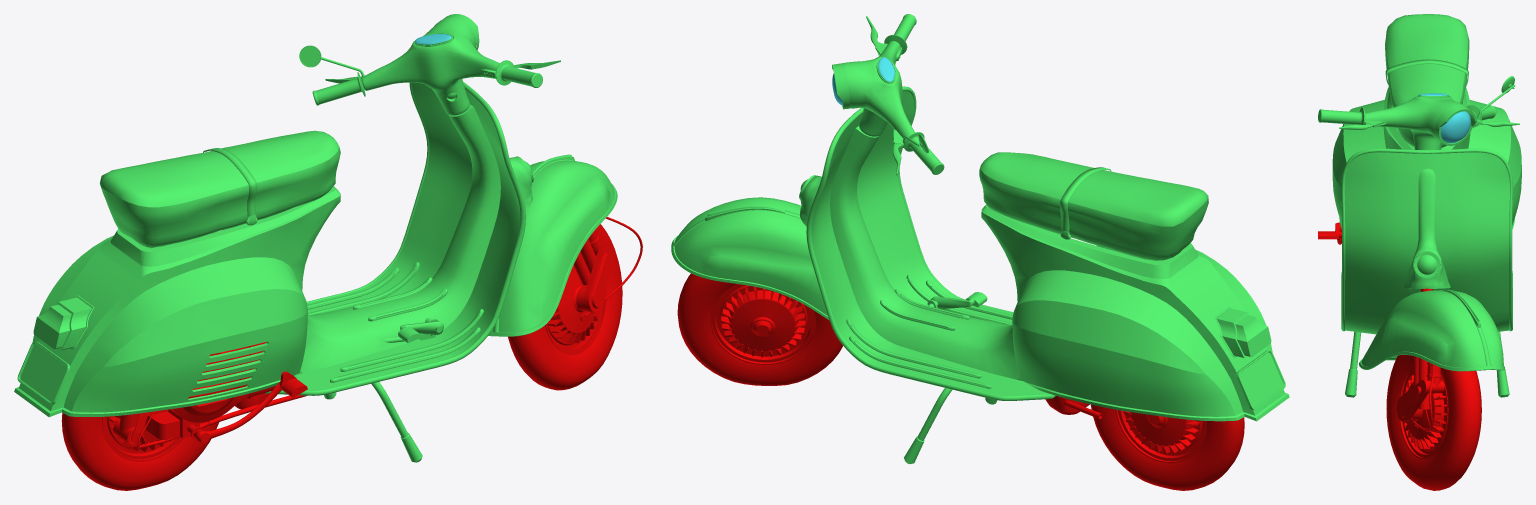
File: scooter.glb
3 views of the same model, side by side, from view 1: azimuth 30°, elevation 25°; view 2: azimuth 150°, elevation 25°; view 3: azimuth 270°, elevation 25° (orthographic). The views are drawn at different scales.
Parts seen in each view (by area): view 1: Vespa; view 2: Vespa; view 3: Vespa.
Boxes of the visible parts, x1,y1,x2,y2 form: Vespa: (14,14,642,490); Vespa: (671,14,1289,490); Vespa: (1318,14,1521,490).
Size of the model in its own units: 1170 by 689 by 380.
